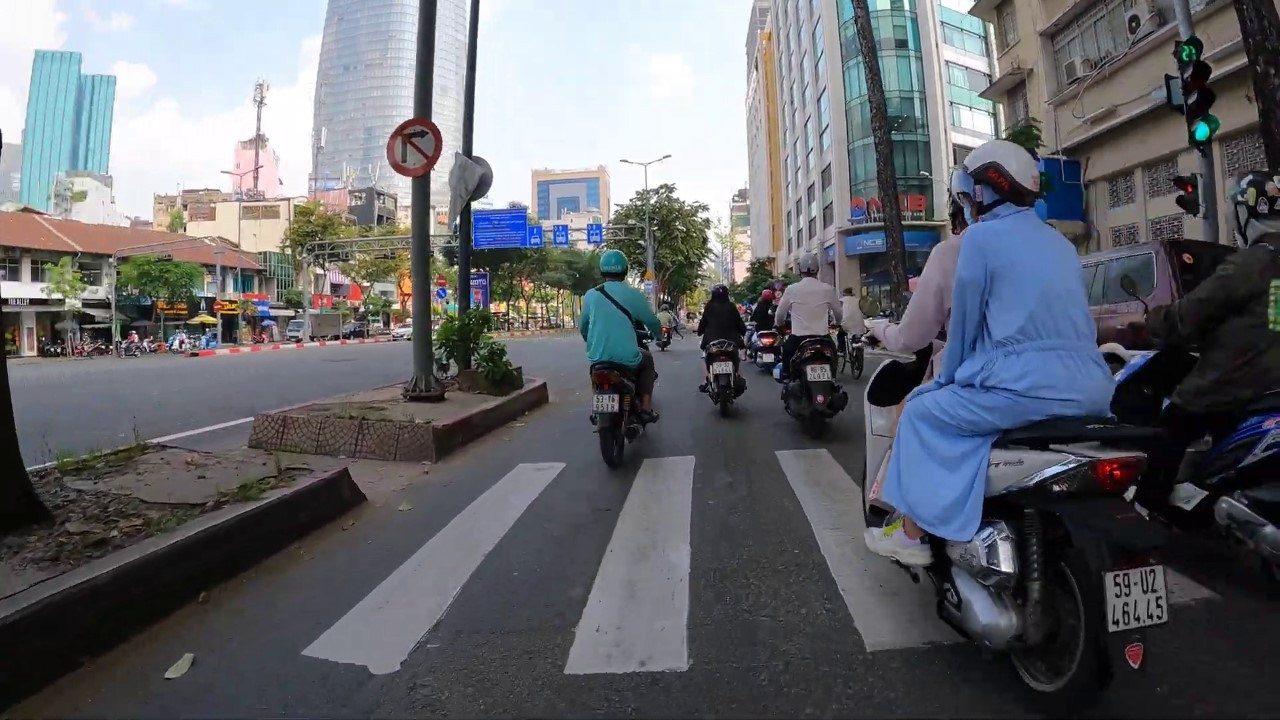cam_re_phai: (386, 117, 444, 179)
